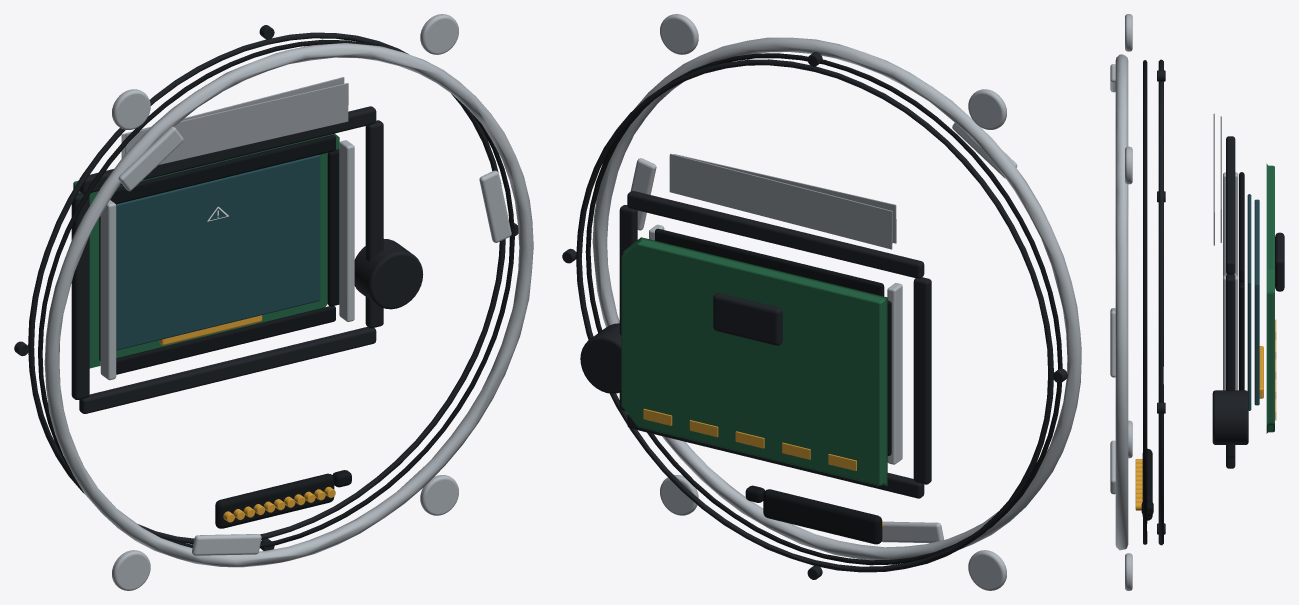
File: 03_mount_shutter_sensor.glb
3 views of the same model, side by side, from view 1: azimuth 30°, elevation 25°; view 2: azimuth 150°, elevation 25°; view 3: azimuth 270°, elevation 25° (orthographic). The views are drawn at different scales.
Visible parts, largest first — view 1: Z50II-03-010_sensor_cover_glass.001, Z50II-03-001_mount_ring.001, Z50II-03-005_mount_spacer.001, Z50II-03-002_mount_gasket.001, Z50II-03-008_shutter_frame_bottom.001, Z50II-03-011_sensor_pcb.001, Z50II-03-012_dust_shield_bottom.001, Z50II-03-012_dust_shield.001, Z50II-03-006_shutter_front_curtain_lamella_02.001, Z50II_shutter_motor_housing.001, Z50II-03-008_shutter_frame_left.001, Z50II-03-008_shutter_frame_right.001 (+19 smaller); view 2: Z50II-03-011_sensor_pcb.001, Z50II-03-001_mount_ring.001, Z50II-03-005_mount_spacer.001, Z50II-03-002_mount_gasket.001, Z50II-03-008_shutter_frame.001, Z50II-03-007_shutter_rear_curtain_lamella_05.001, Z50II-03-008_shutter_frame_left.001, Z50II-03-007_shutter_rear_curtain_lamella_02.001, Z50II-03-003_contact_block.001, Z50II-03-012_dust_shield.001, Z50II_sensor_pcb_controller.001, Z50II-03-007_shutter_rear_curtain_lamella_03.001 (+16 smaller); view 3: Z50II-03-001_mount_ring.001, Z50II-03-005_mount_spacer.001, Z50II-03-002_mount_gasket.001, Z50II-03-011_sensor_pcb.001, Z50II_shutter_motor_housing.001, Z50II-03-008_shutter_frame.001, Z50II-03-008_shutter_frame_right.001, Z50II-03-009_sensor_package.001, Z50II-03-010_sensor_cover_glass.001, Z50II_shutter_guide_right.001, Z50II_shutter_guide_left.001, Z50II-03-012_dust_shield.001 (+9 smaller).
Part boxes in pixels (bbox=[...]): Z50II-03-010_sensor_cover_glass.001: bbox=[116, 155, 320, 350]; Z50II-03-001_mount_ring.001: bbox=[44, 43, 533, 567]; Z50II-03-005_mount_spacer.001: bbox=[28, 32, 505, 544]; Z50II-03-002_mount_gasket.001: bbox=[38, 39, 514, 548]; Z50II-03-008_shutter_frame_bottom.001: bbox=[79, 326, 376, 413]; Z50II-03-011_sensor_pcb.001: bbox=[73, 133, 339, 368]; Z50II-03-012_dust_shield_bottom.001: bbox=[116, 306, 335, 374]; Z50II-03-012_dust_shield.001: bbox=[110, 135, 335, 204]; Z50II-03-006_shutter_front_curtain_lamella_02.001: bbox=[126, 96, 348, 161]; Z50II_shutter_motor_housing.001: bbox=[354, 239, 423, 309]; Z50II-03-008_shutter_frame_left.001: bbox=[71, 192, 89, 399]; Z50II-03-008_shutter_frame_right.001: bbox=[365, 120, 383, 328]; Z50II-03-011_sensor_pcb.001: bbox=[621, 237, 887, 486]; Z50II-03-001_mount_ring.001: bbox=[592, 37, 1081, 560]; Z50II-03-005_mount_spacer.001: bbox=[576, 59, 1053, 572]; Z50II-03-002_mount_gasket.001: bbox=[585, 53, 1062, 565]; Z50II-03-008_shutter_frame.001: bbox=[627, 191, 924, 278]; Z50II-03-007_shutter_rear_curtain_lamella_05.001: bbox=[669, 159, 892, 237]; Z50II-03-008_shutter_frame_left.001: bbox=[913, 277, 931, 484]; Z50II-03-007_shutter_rear_curtain_lamella_02.001: bbox=[669, 178, 892, 246]; Z50II-03-003_contact_block.001: bbox=[763, 489, 882, 544]; Z50II-03-012_dust_shield.001: bbox=[655, 228, 884, 296]; Z50II_sensor_pcb_controller.001: bbox=[713, 293, 782, 345]; Z50II-03-007_shutter_rear_curtain_lamella_03.001: bbox=[682, 177, 892, 243]; Z50II-03-001_mount_ring.001: bbox=[1115, 54, 1128, 550]; Z50II-03-005_mount_spacer.001: bbox=[1158, 59, 1163, 545]; Z50II-03-002_mount_gasket.001: bbox=[1143, 60, 1147, 544]; Z50II-03-011_sensor_pcb.001: bbox=[1266, 163, 1274, 433]; Z50II_shutter_motor_housing.001: bbox=[1212, 390, 1248, 444]; Z50II-03-008_shutter_frame.001: bbox=[1226, 136, 1235, 274]; Z50II-03-008_shutter_frame_right.001: bbox=[1226, 274, 1235, 457]; Z50II-03-009_sensor_package.001: bbox=[1254, 199, 1259, 405]; Z50II-03-010_sensor_cover_glass.001: bbox=[1247, 194, 1251, 410]; Z50II_shutter_guide_right.001: bbox=[1223, 275, 1238, 390]; Z50II_shutter_guide_left.001: bbox=[1223, 172, 1238, 276]; Z50II-03-012_dust_shield.001: bbox=[1239, 172, 1244, 282].
Size of the model in its own units: 0.0597 by 0.0597 by 0.0204.
8 materials, 1 textured.
